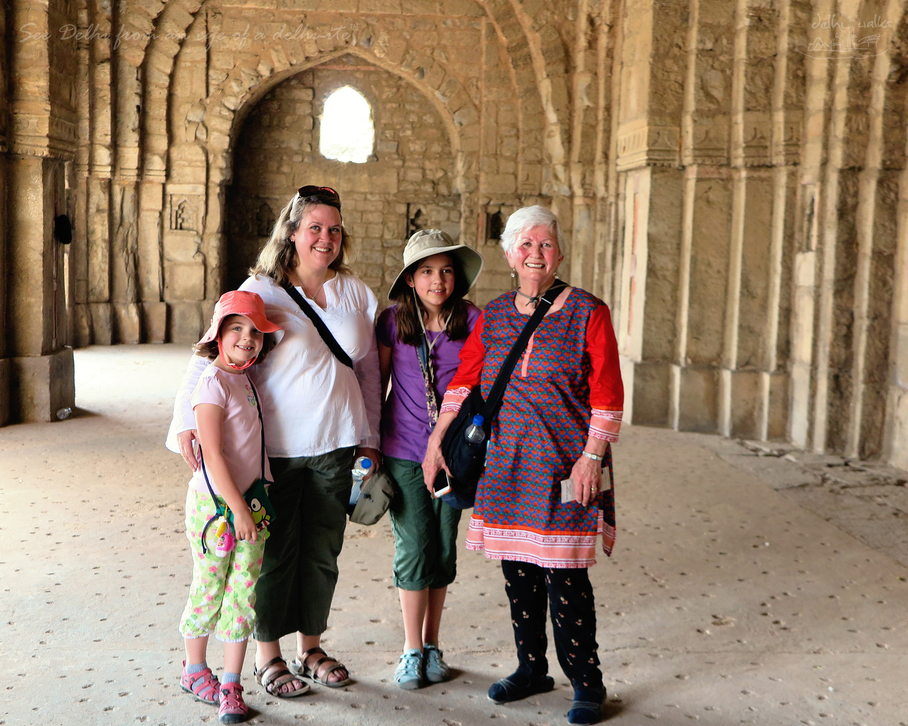Person: (164, 159, 388, 726), (412, 191, 649, 724), (357, 219, 502, 720), (164, 285, 297, 726)
